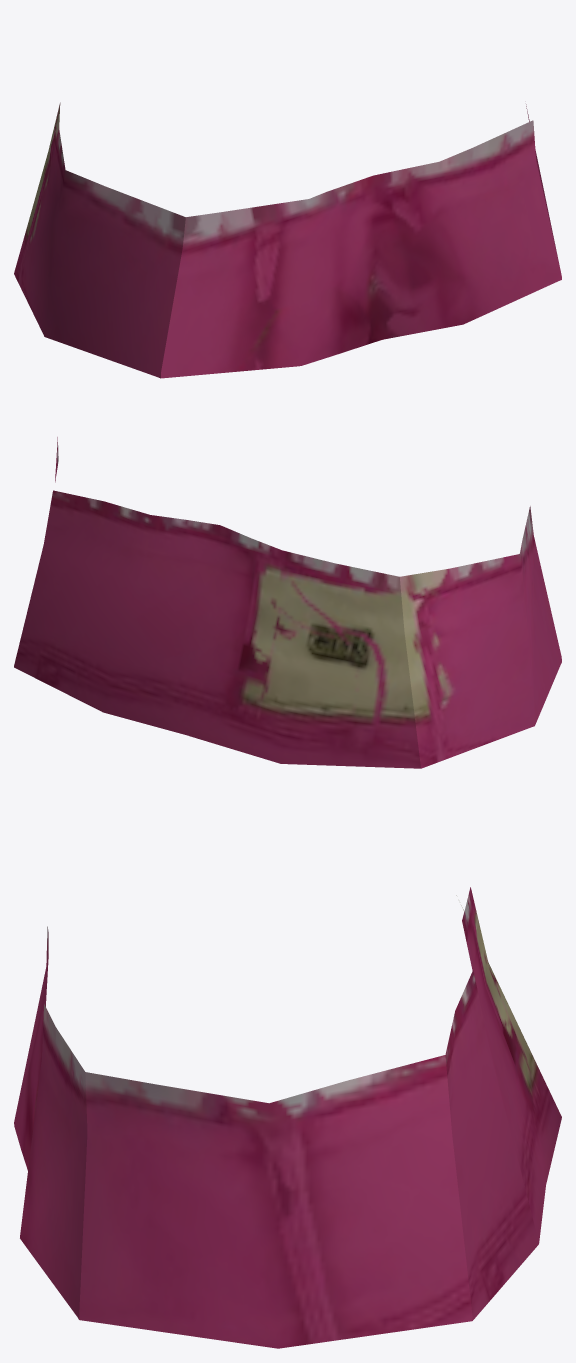
The model's file is 009-shell.glb.
3 renders of one model, top to bottom at view 1: azimuth 30°, elevation 25°; view 2: azimuth 150°, elevation 25°; view 3: azimuth 270°, elevation 25°, orthographic. The views are drawn at different scales.
Visible parts, largest first — view 1: geometry_0; view 2: geometry_0; view 3: geometry_0.
Part boxes in pixels (x1,y1,x2,y2): geometry_0: [14, 102, 561, 378]; geometry_0: [14, 437, 561, 768]; geometry_0: [14, 887, 561, 1348].
Size of the model in its own units: 0.3467 by 0.1274 by 0.2407.
Materials: 1 (1 with a texture image).
